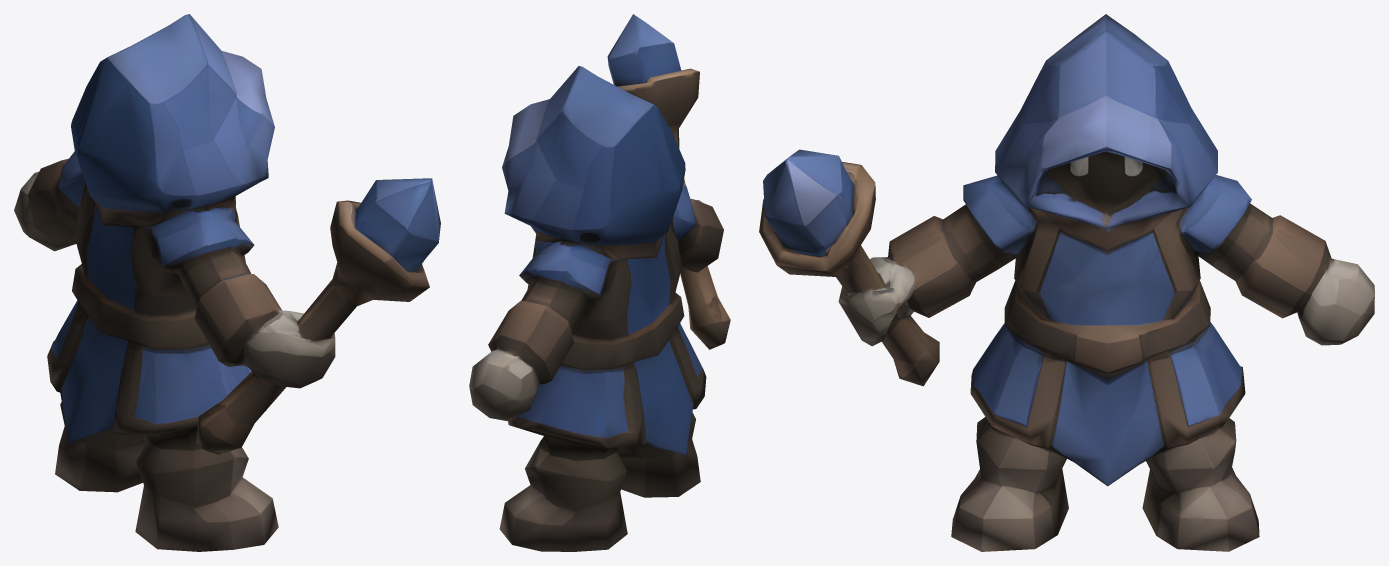
The model's file is creep_ranged.glb.
The picture shows the model from 3 angles, left to right: view 1: azimuth 30°, elevation 25°; view 2: azimuth 150°, elevation 25°; view 3: azimuth 270°, elevation 25°; orthographic projection. The views are drawn at different scales.
Parts seen in each view (by area): view 1: tripo_node_0f251e4e-4bda-43d7-9fe4-ffc610d77b1c; view 2: tripo_node_0f251e4e-4bda-43d7-9fe4-ffc610d77b1c; view 3: tripo_node_0f251e4e-4bda-43d7-9fe4-ffc610d77b1c.
Part boxes in pixels (x1=…): tripo_node_0f251e4e-4bda-43d7-9fe4-ffc610d77b1c: x1=14, y1=14, x2=440, y2=551; tripo_node_0f251e4e-4bda-43d7-9fe4-ffc610d77b1c: x1=469, y1=14, x2=730, y2=551; tripo_node_0f251e4e-4bda-43d7-9fe4-ffc610d77b1c: x1=759, y1=14, x2=1374, y2=551.
Size of the model in its own units: 0.4541 by 0.9042 by 1.
Materials: 1 (1 with a texture image).
